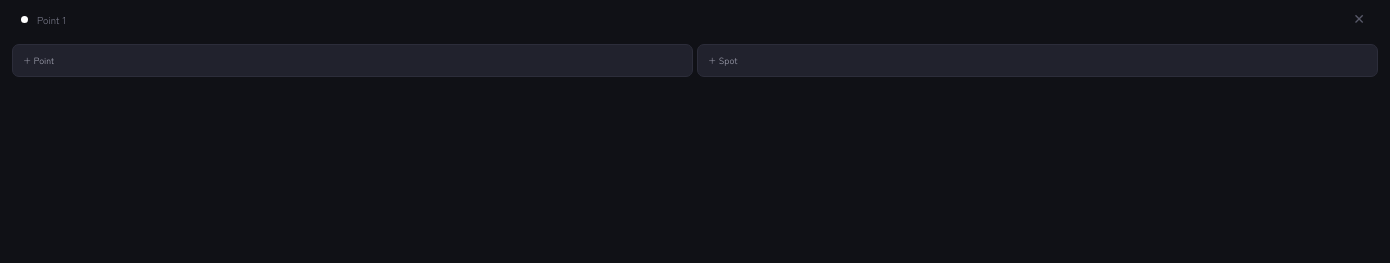
Test case: sceneControls › li: a light shows in the list; clicking it selects and reveals its props (selectedLightId is not in the store's fingerprint)
The image size is (1390, 263).
Click the text "Point 1" at (52, 19), box [37,12,66,26]
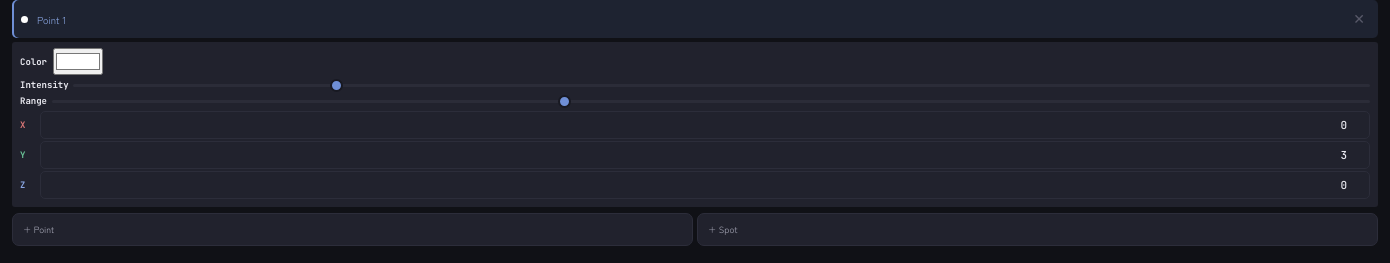
Expected: the slider named "Light light_1 intensity" is shown, [73,84,1370,86]
